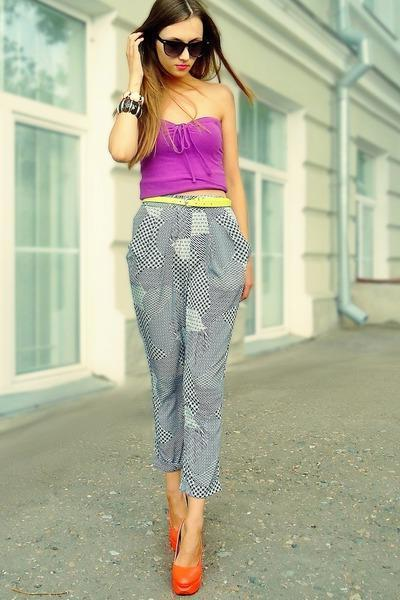trousers: (121, 195, 256, 498), (133, 114, 232, 203)
